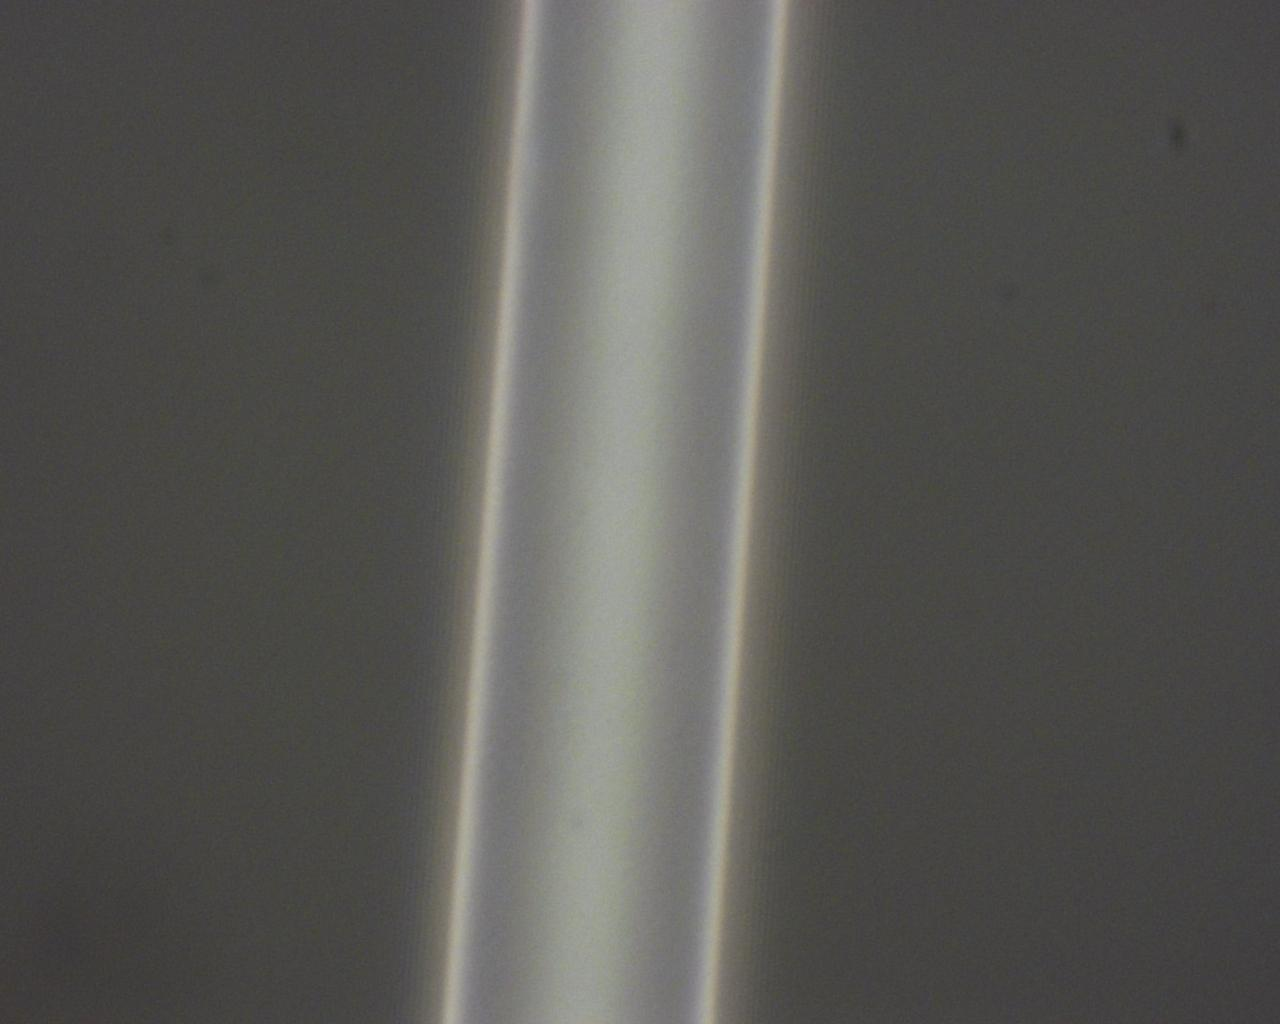fiber: (439, 0, 793, 1024)
